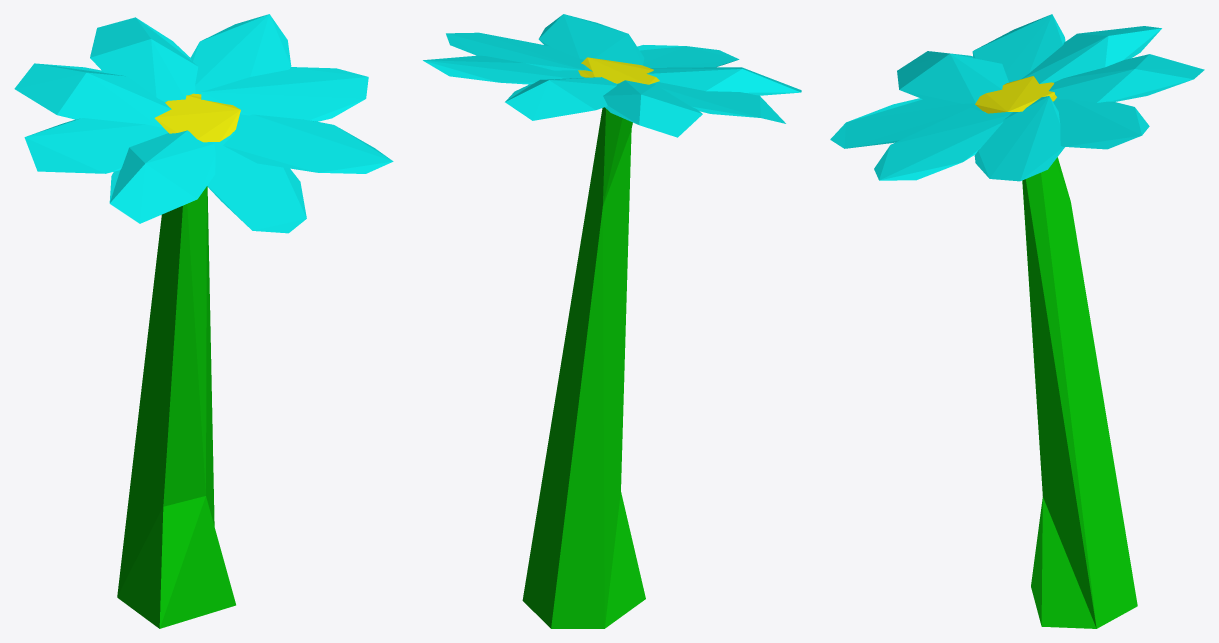
File: Flower#4.fbx
3 views of the same model, side by side, from view 1: azimuth 30°, elevation 25°; view 2: azimuth 150°, elevation 25°; view 3: azimuth 270°, elevation 25° (orthographic).
Visible parts, largest first — view 1: Flower#4; view 2: Flower#4; view 3: Flower#4.
Part boxes in pixels (left/top/right/bottom): Flower#4: left=14, top=14, right=393, bottom=628; Flower#4: left=423, top=14, right=801, bottom=628; Flower#4: left=830, top=14, right=1204, bottom=628.
Bounding box in the file's own units: 25.06 × 38.78 × 24.44.
